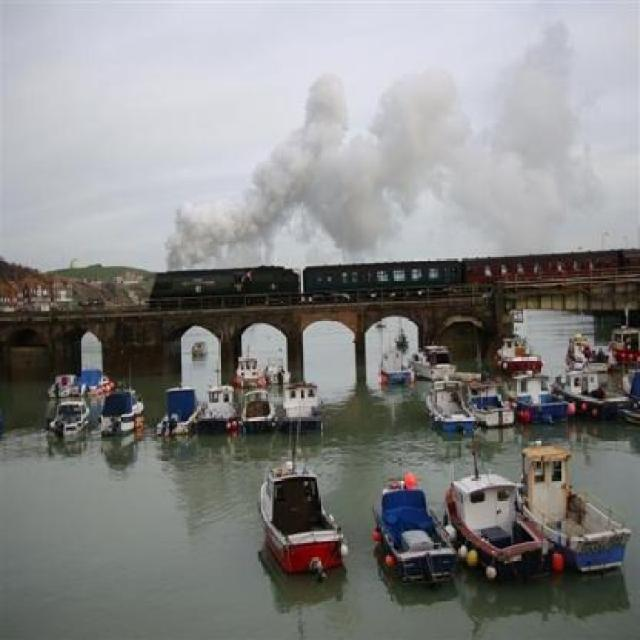Smoke: (168, 64, 594, 263)
